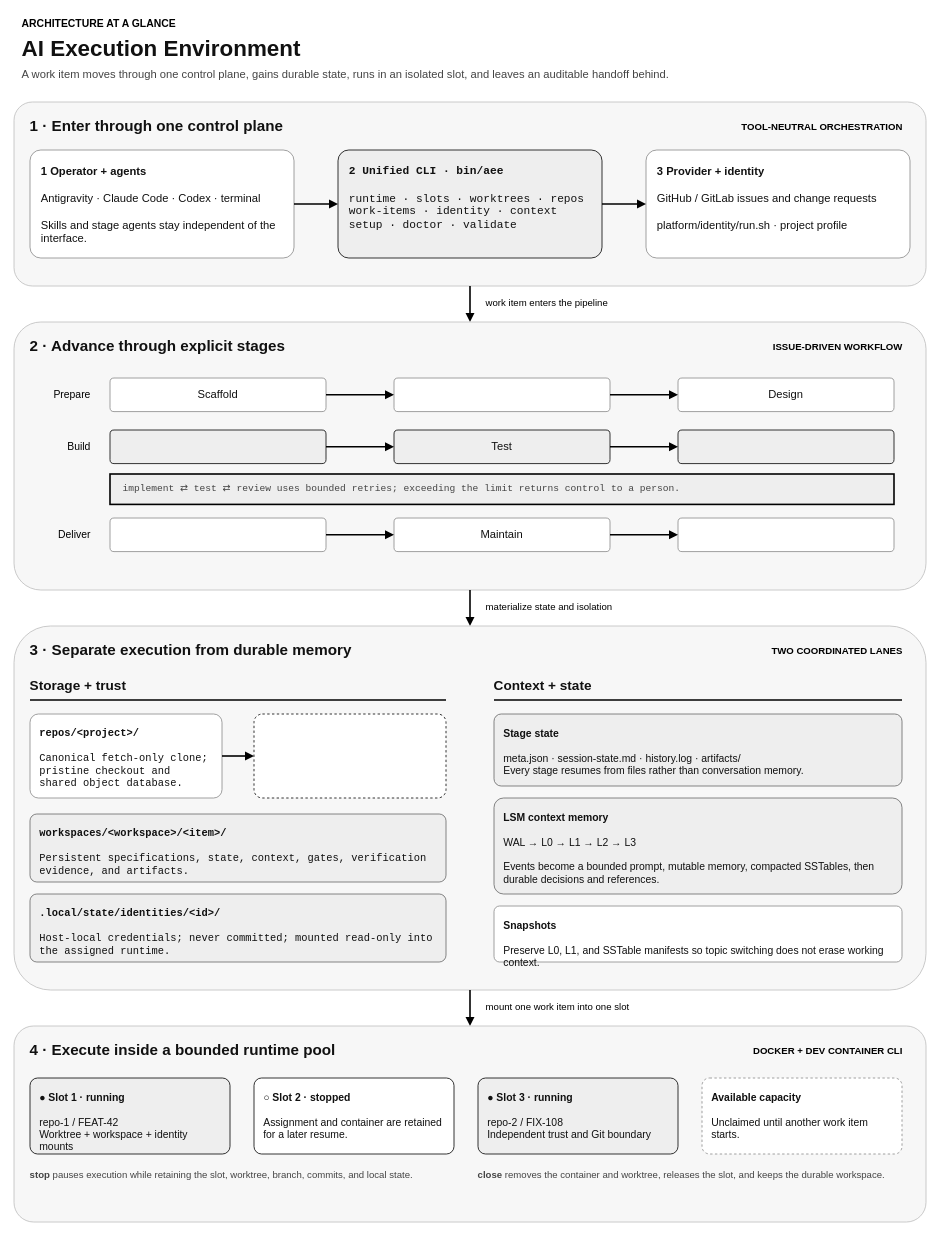
This 940x1236 diagram has some shape labels left out. Each missing label, with the centre of its shape:
Close: (x=785, y=534)
Create PR: (x=217, y=534)
Implement: (x=217, y=446)
Refine: (x=501, y=394)
Review: (x=785, y=446)
worktrees/<item>/ Disposable branch from the explicit upstream default branch.: (x=349, y=755)
